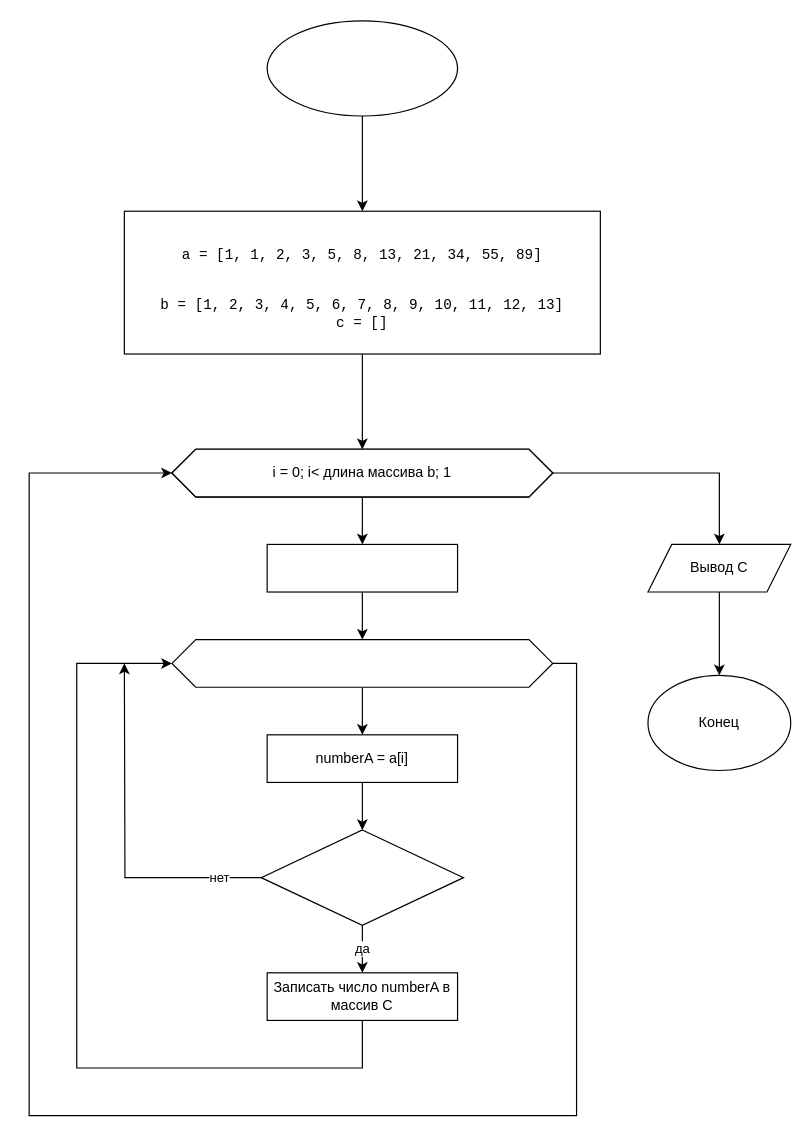
The diagram is 812 pixels wide and 1146 high, and some of its shapes have lost their labels. Here are the shapes that lost their labels. From the top down, the box of each, then its label:
(266, 20, 458, 116): Начало
(266, 543, 458, 592): numberB = b[i]
(171, 638, 553, 687): i = 0; i< длина массива a; 1
(260, 829, 464, 925): numberB == numberA
